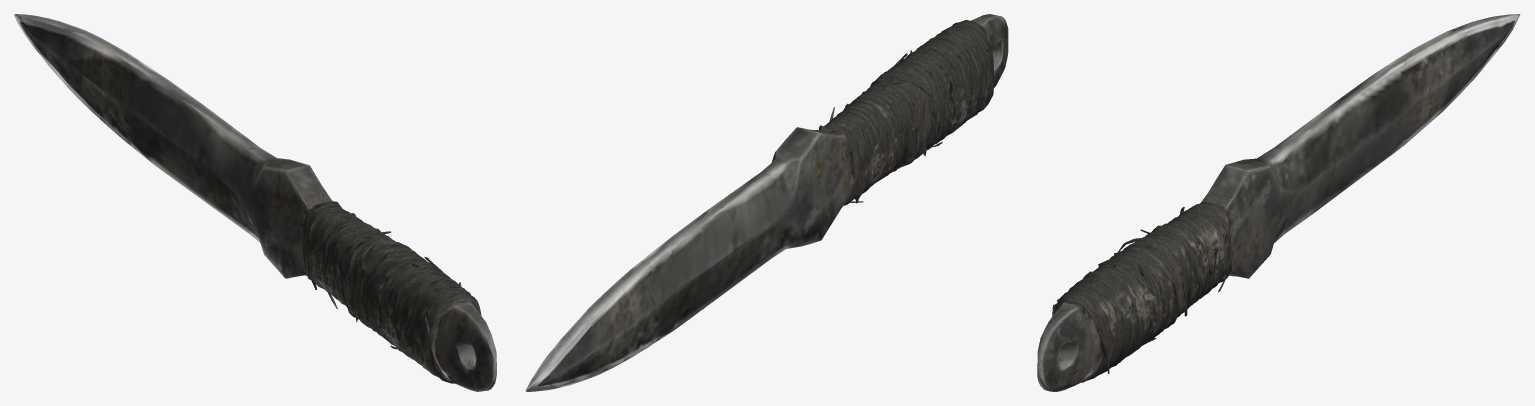
The model's file is throwing_knives.582e380c.glb.
3 views of the same model, side by side, from view 1: azimuth 30°, elevation 25°; view 2: azimuth 150°, elevation 25°; view 3: azimuth 330°, elevation 25° (orthographic).
Parts seen in each view (by area): view 1: item; view 2: item; view 3: item.
Part boxes in pixels (box(x1,y1,x2,y2)): item: box(14, 14, 496, 391); item: box(525, 14, 1008, 391); item: box(1037, 14, 1520, 391).
Size of the model in its own units: 0.0197 by 0.0298 by 0.2398.
Materials: 1 (1 with a texture image).
